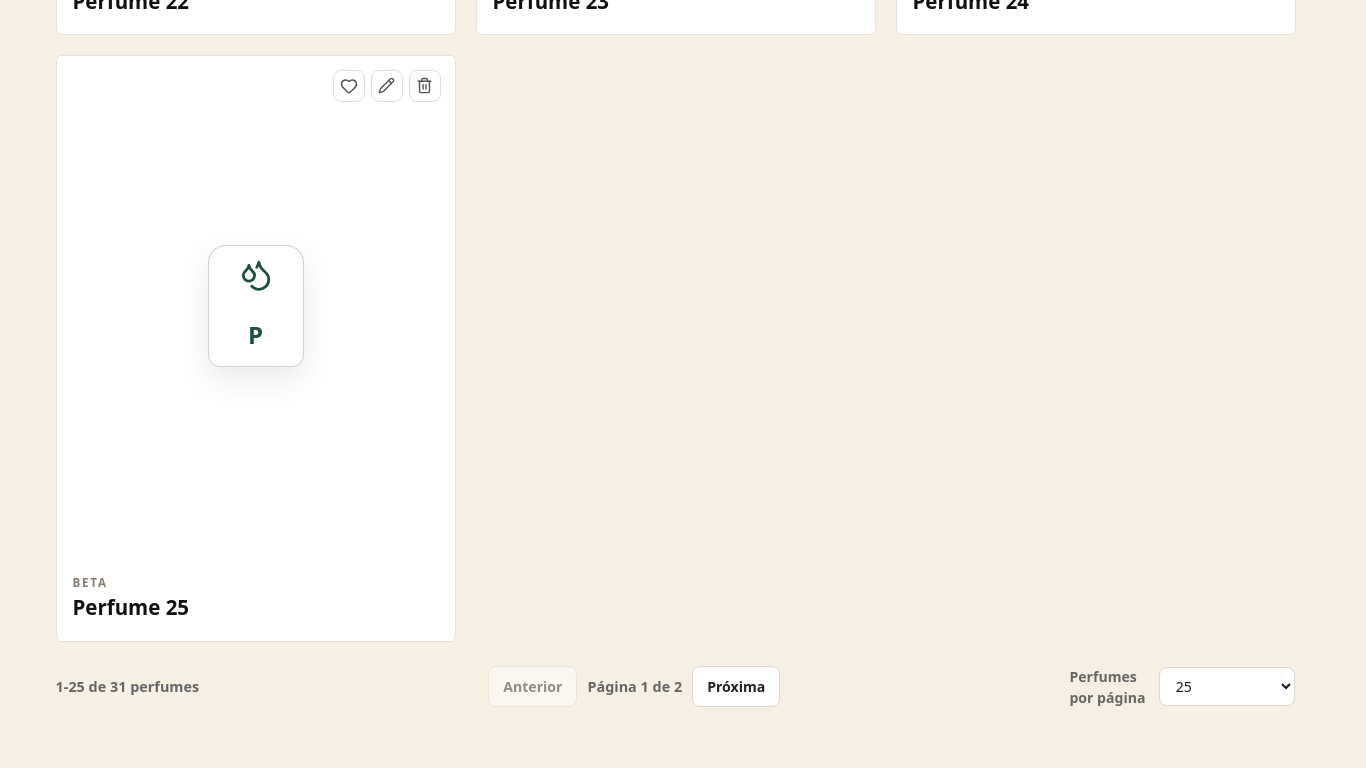
Test: CollectionView › paginates filtered perfumes from an initial page size of 25
This screenshot has width=1366, height=768.
(page scrolled)
Expected: the text "1-25 de 31 perfumes" is shown, [56,676,199,698]
Click the button with aria-label "Próxima página". click: (736, 687)
box: [692,666,780,707]
(page scrolled)
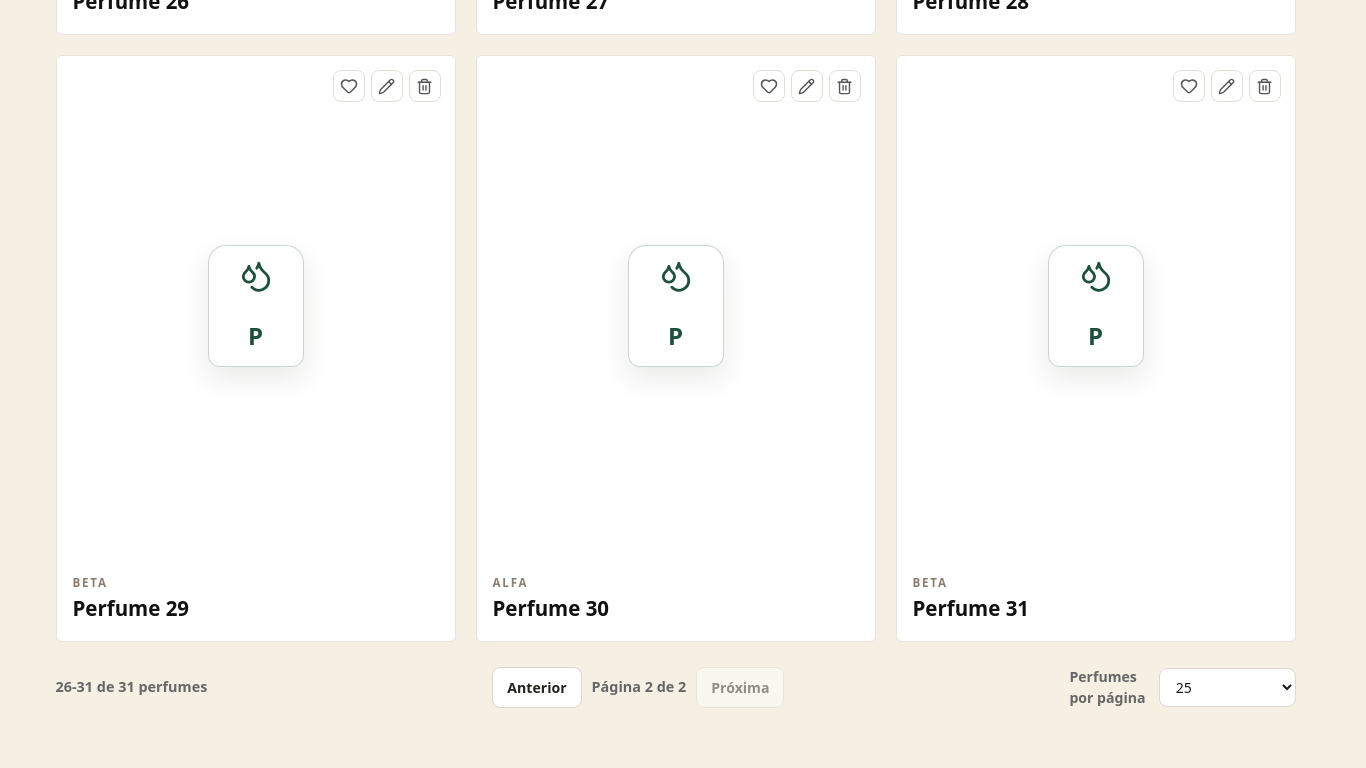
Expected: the text "26-31 de 31 perfumes" is shown, [56,676,207,698]
Select "50" in the dropdown labelled "Perfumes por página". click: (1227, 687)
box: [1159,668,1296,707]
(page scrolled)
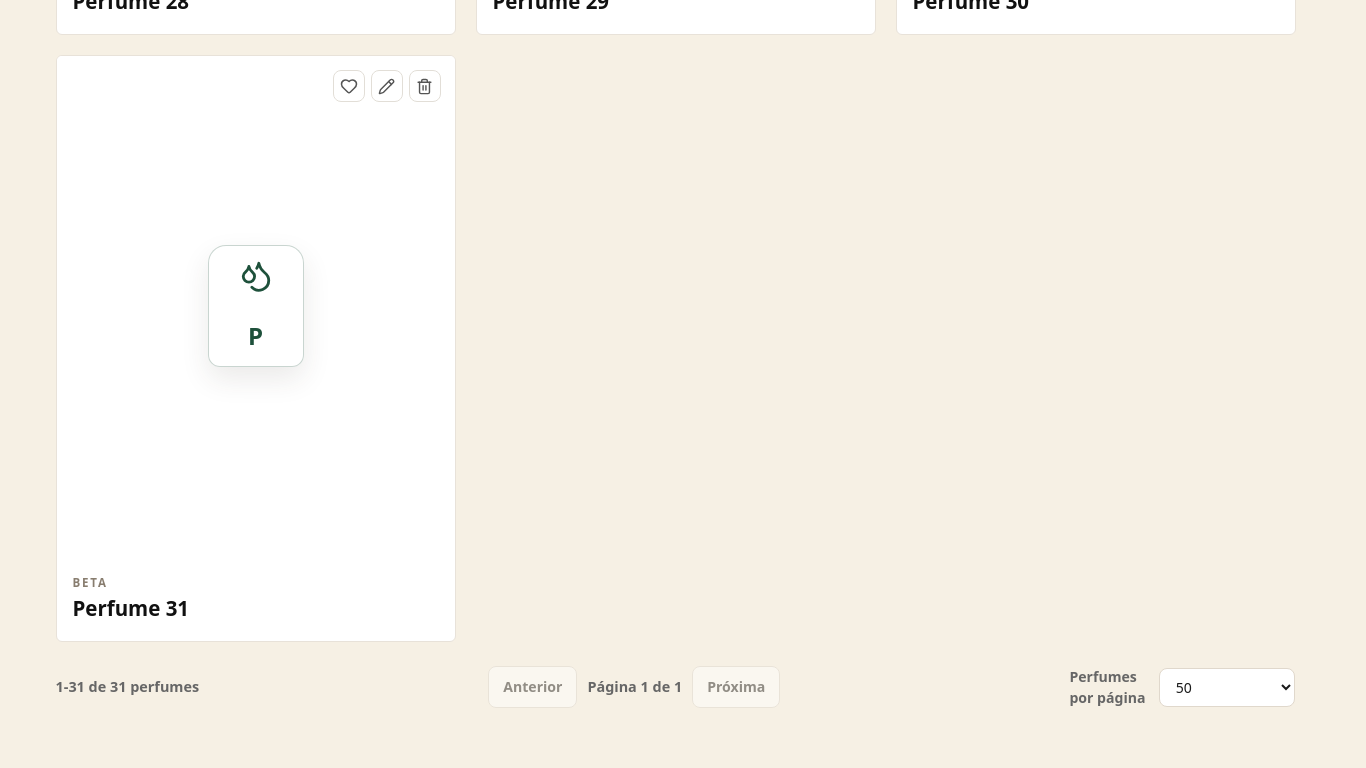
Expected: the text "1-31 de 31 perfumes" is shown, [56,676,199,698]
